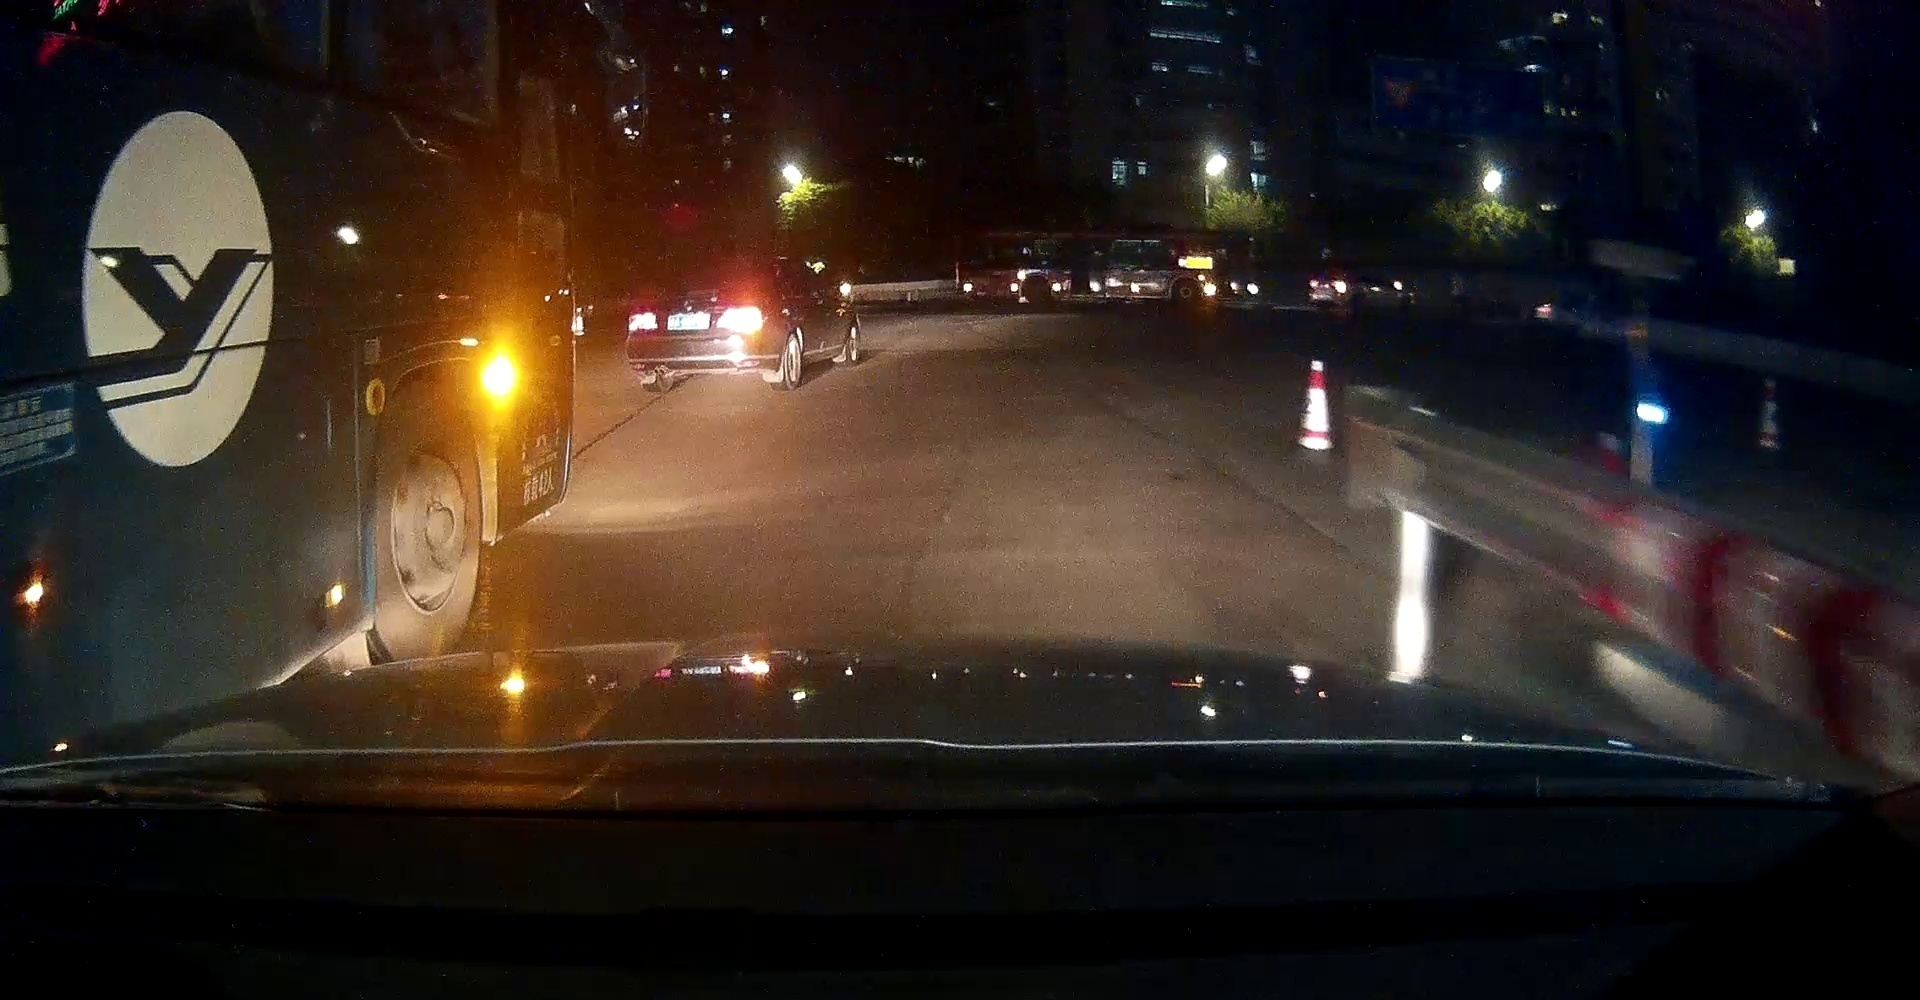L_light: (627, 311, 659, 332)
R_light: (715, 306, 766, 335)
T_light: (686, 263, 712, 270)
night-right: (625, 256, 783, 391)
